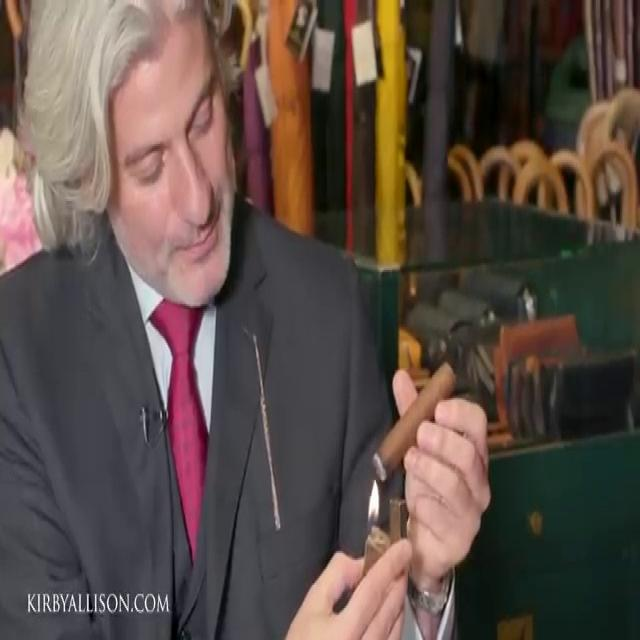Smooking: (365, 341, 472, 493)
